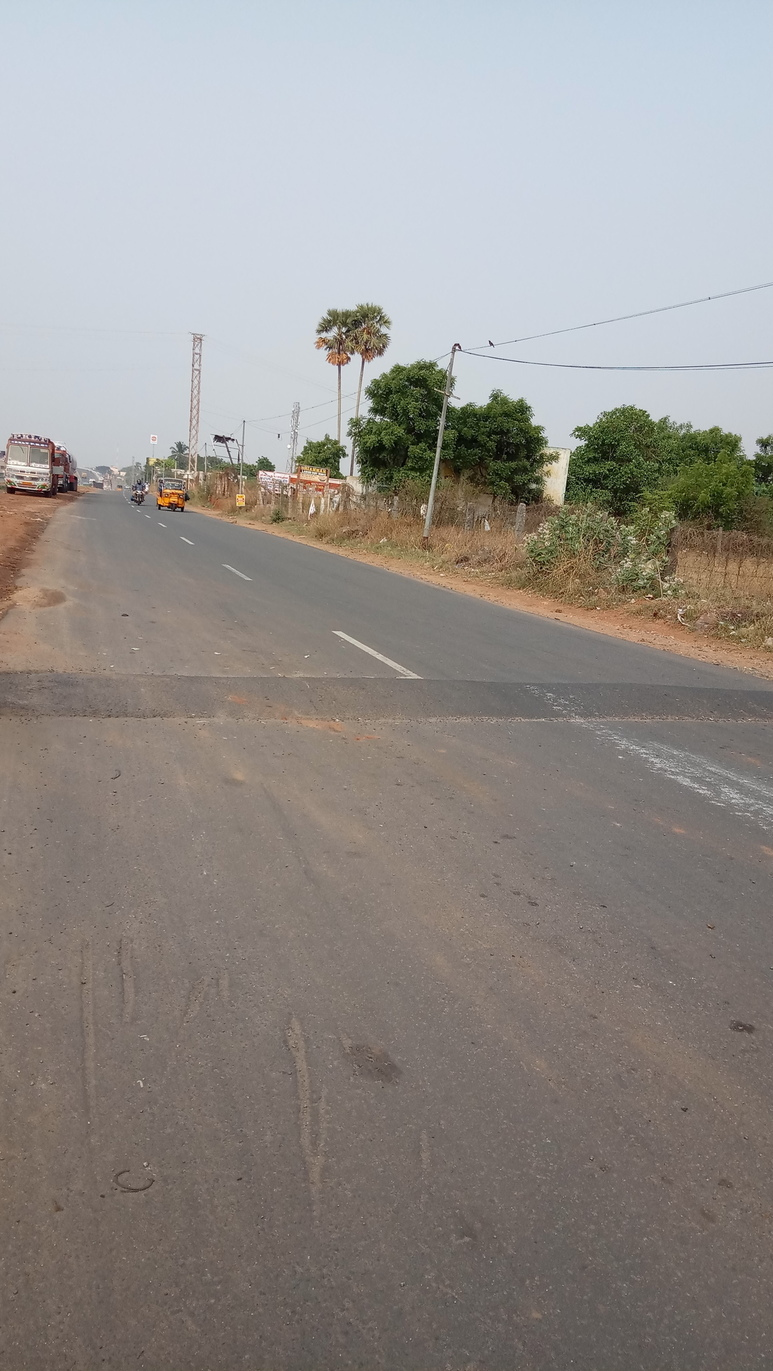bump: (1, 668, 772, 731)
